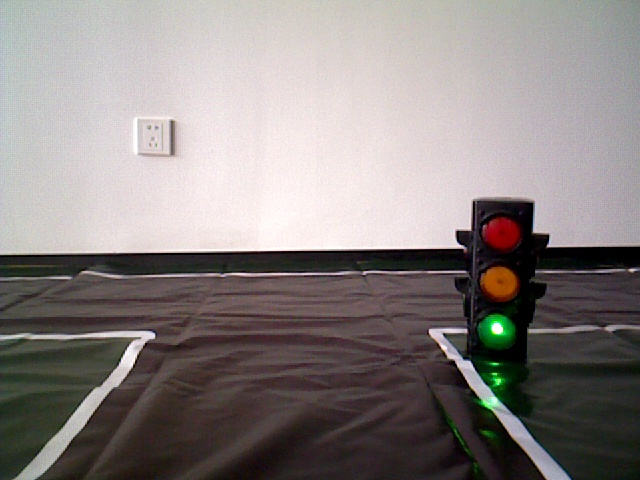green: (473, 201, 524, 349)
